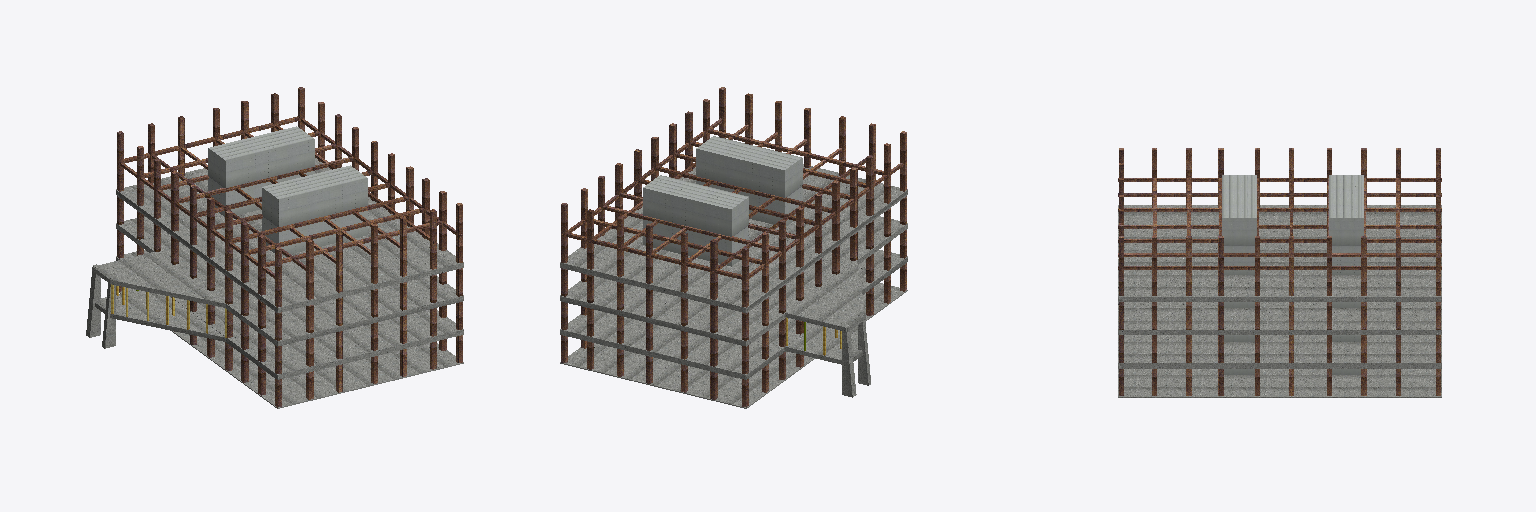
3 views of the same model, side by side, from view 1: azimuth 30°, elevation 25°; view 2: azimuth 150°, elevation 25°; view 3: azimuth 270°, elevation 25° (orthographic).
Visible parts, largest first — view 1: Box144, Box045, Box138, Box158, Box157, Box142, Box148; view 2: Box144, Box045, Box138, Box157, Box158, Box142; view 3: Box144, Box045, Box138, Box158, Box157.
Boxes of the visible parts, x1=… form: Box144: x1=92, y1=158, x2=463, y2=408; Box045: x1=117, y1=87, x2=462, y2=407; Box138: x1=120, y1=116, x2=461, y2=281; Box158: x1=262, y1=165, x2=367, y2=255; Box157: x1=208, y1=126, x2=314, y2=216; Box142: x1=86, y1=264, x2=115, y2=348; Box148: x1=111, y1=284, x2=226, y2=337; Box144: x1=560, y1=164, x2=907, y2=408; Box045: x1=561, y1=87, x2=906, y2=407; Box138: x1=562, y1=118, x2=903, y2=281; Box157: x1=643, y1=175, x2=748, y2=266; Box158: x1=696, y1=136, x2=802, y2=225; Box142: x1=842, y1=313, x2=870, y2=397; Box144: x1=1118, y1=205, x2=1441, y2=397; Box045: x1=1119, y1=148, x2=1440, y2=395; Box138: x1=1118, y1=178, x2=1441, y2=269; Box158: x1=1222, y1=175, x2=1256, y2=374; Box157: x1=1329, y1=175, x2=1363, y2=374.
Size of the model in its own units: 27.29 by 16.25 by 30.
Materials: 6 (5 with a texture image).